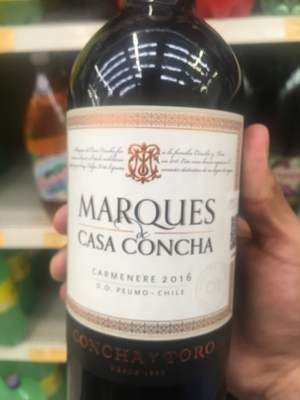marques de casa concha carmenere: (51, 23, 251, 400)
